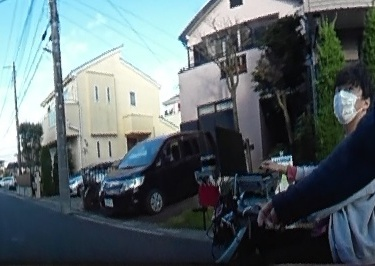person: (251, 63, 375, 266)
